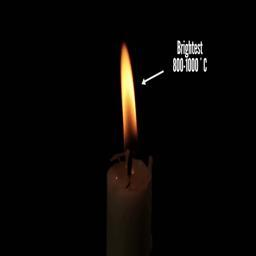fire: (119, 45, 137, 143)
